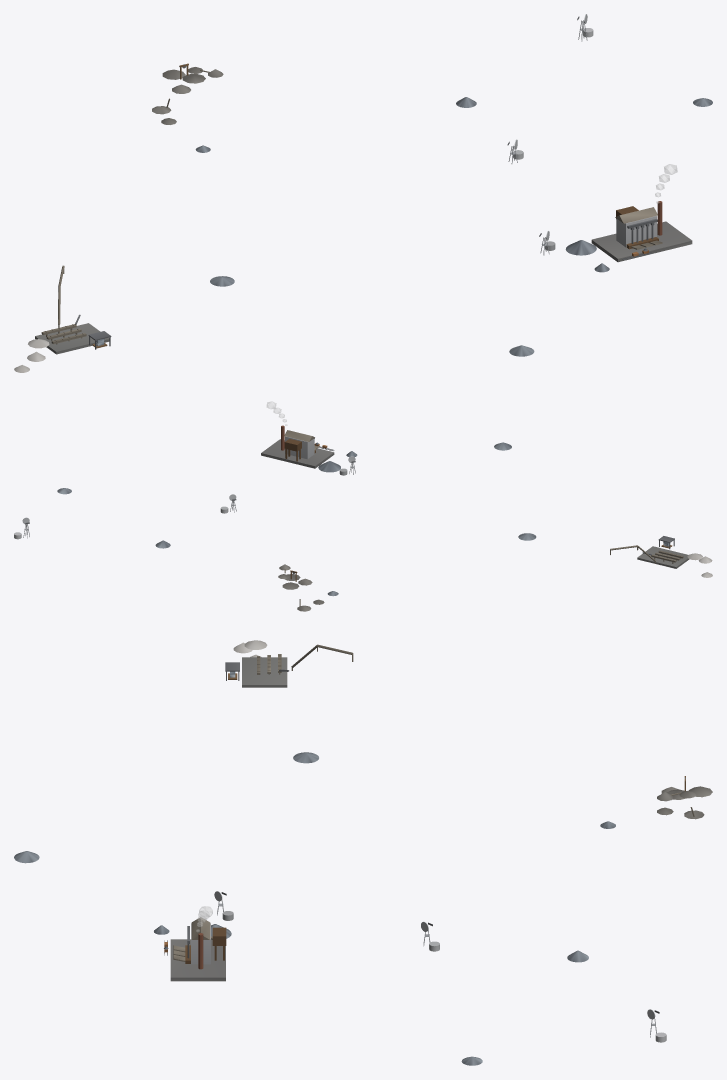
The model's file is Theme_P2.fbx.
3 renders of one model, top to bottom at view 1: azimuth 30°, elevation 25°; view 2: azimuth 150°, elevation 25°; view 3: azimuth 270°, elevation 25°, orthographic. The views are drawn at different scales.
Parts seen in each view (by area): view 1: Theme.StampMill, Theme.Sluices, Theme.Diggings; view 2: Theme.StampMill, Theme.Sluices, Theme.Diggings; view 3: Theme.StampMill, Theme.Sluices, Theme.Diggings.
Part boxes in pixels (box(x1,y1,x2,y2)): Theme.StampMill: box(591, 201, 692, 262); Theme.Sluices: box(35, 314, 109, 354); Theme.Diggings: box(152, 63, 223, 124); Theme.StampMill: box(261, 425, 334, 468); Theme.Sluices: box(637, 546, 689, 568); Theme.Diggings: box(278, 564, 324, 611); Theme.StampMill: box(170, 917, 226, 981); Theme.Sluices: box(242, 654, 289, 687); Theme.Diggings: box(657, 776, 712, 819).
Bounding box in the file's own units: 38562 × 3250 × 27774.
